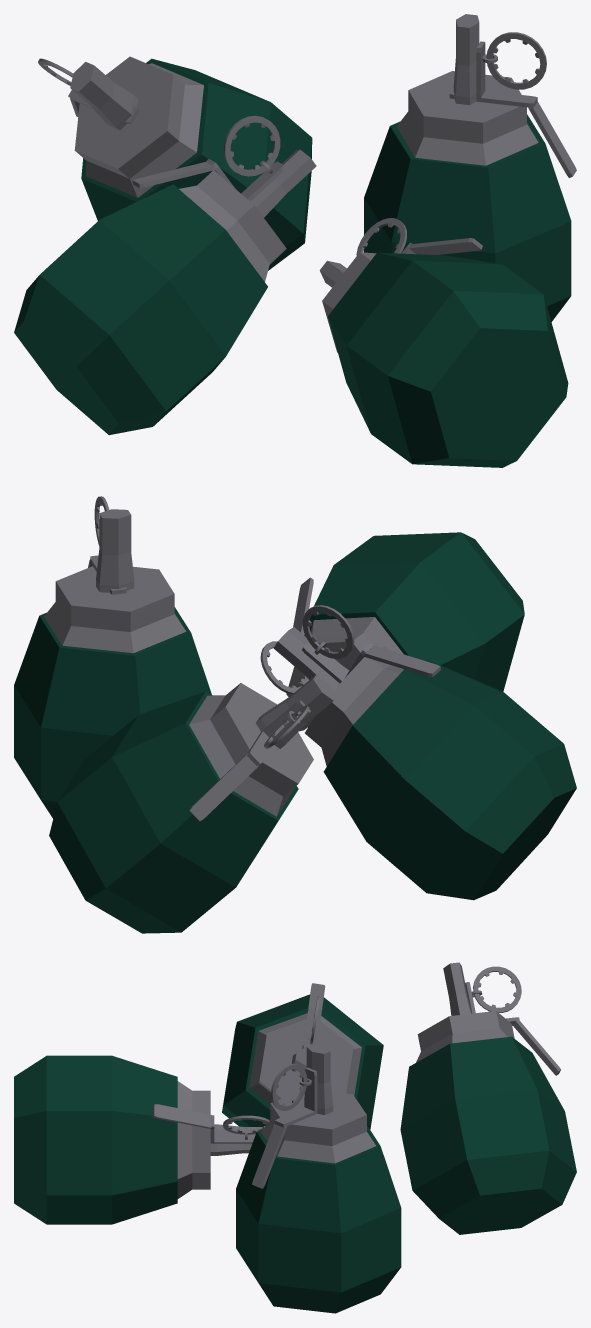
File: Ammo_Pickup_Grenades.fbx
3 renders of one model, top to bottom at view 1: azimuth 30°, elevation 25°; view 2: azimuth 150°, elevation 25°; view 3: azimuth 270°, elevation 25°, orthographic. The views are drawn at different scales.
Parts seen in each view (by area): view 1: leafs_round (×4), hexagon_base (×7), roof_flat (×5), ring_inner (×3); view 2: leafs_round (×4), hexagon_base (×7), roof_flat (×4), ring_inner (×2); view 3: leafs_round (×4), hexagon_base (×7), roof_flat (×5), ring_inner (×2).
Boxes of the visible parts, x1,y1,x2,y2 form: leafs_round (×4): (14,58,571,467); hexagon_base (×7): (70,14,538,352); roof_flat (×5): (132,88,576,254); ring_inner (×3): (223,32,546,255); leafs_round (×4): (14,532,576,933); hexagon_base (×7): (44,509,403,816); roof_flat (×4): (189,577,440,820); ring_inner (×2): (260,605,354,694); leafs_round (×4): (14,994,576,1313); hexagon_base (×7): (177,962,514,1198); roof_flat (×5): (152,1019,560,1188); ring_inner (×2): (271,966,521,1110).
Bounding box in the file's own units: 40.15 × 22.12 × 45.79.
